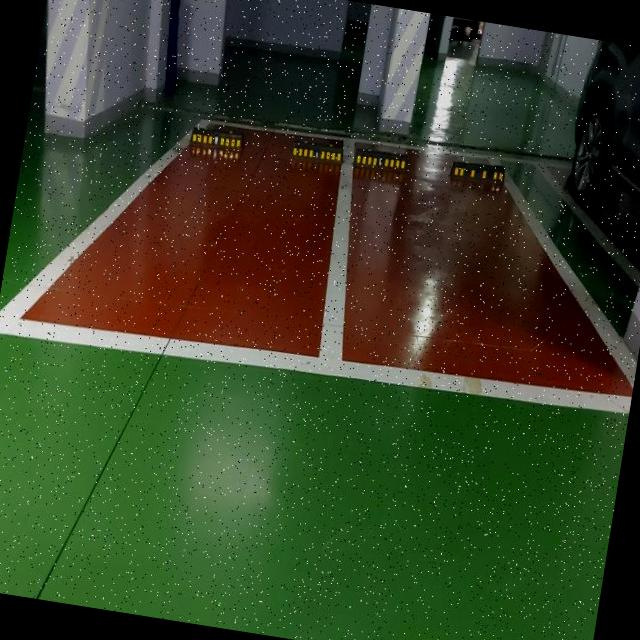free: (12, 92, 358, 389), (306, 132, 640, 433)
